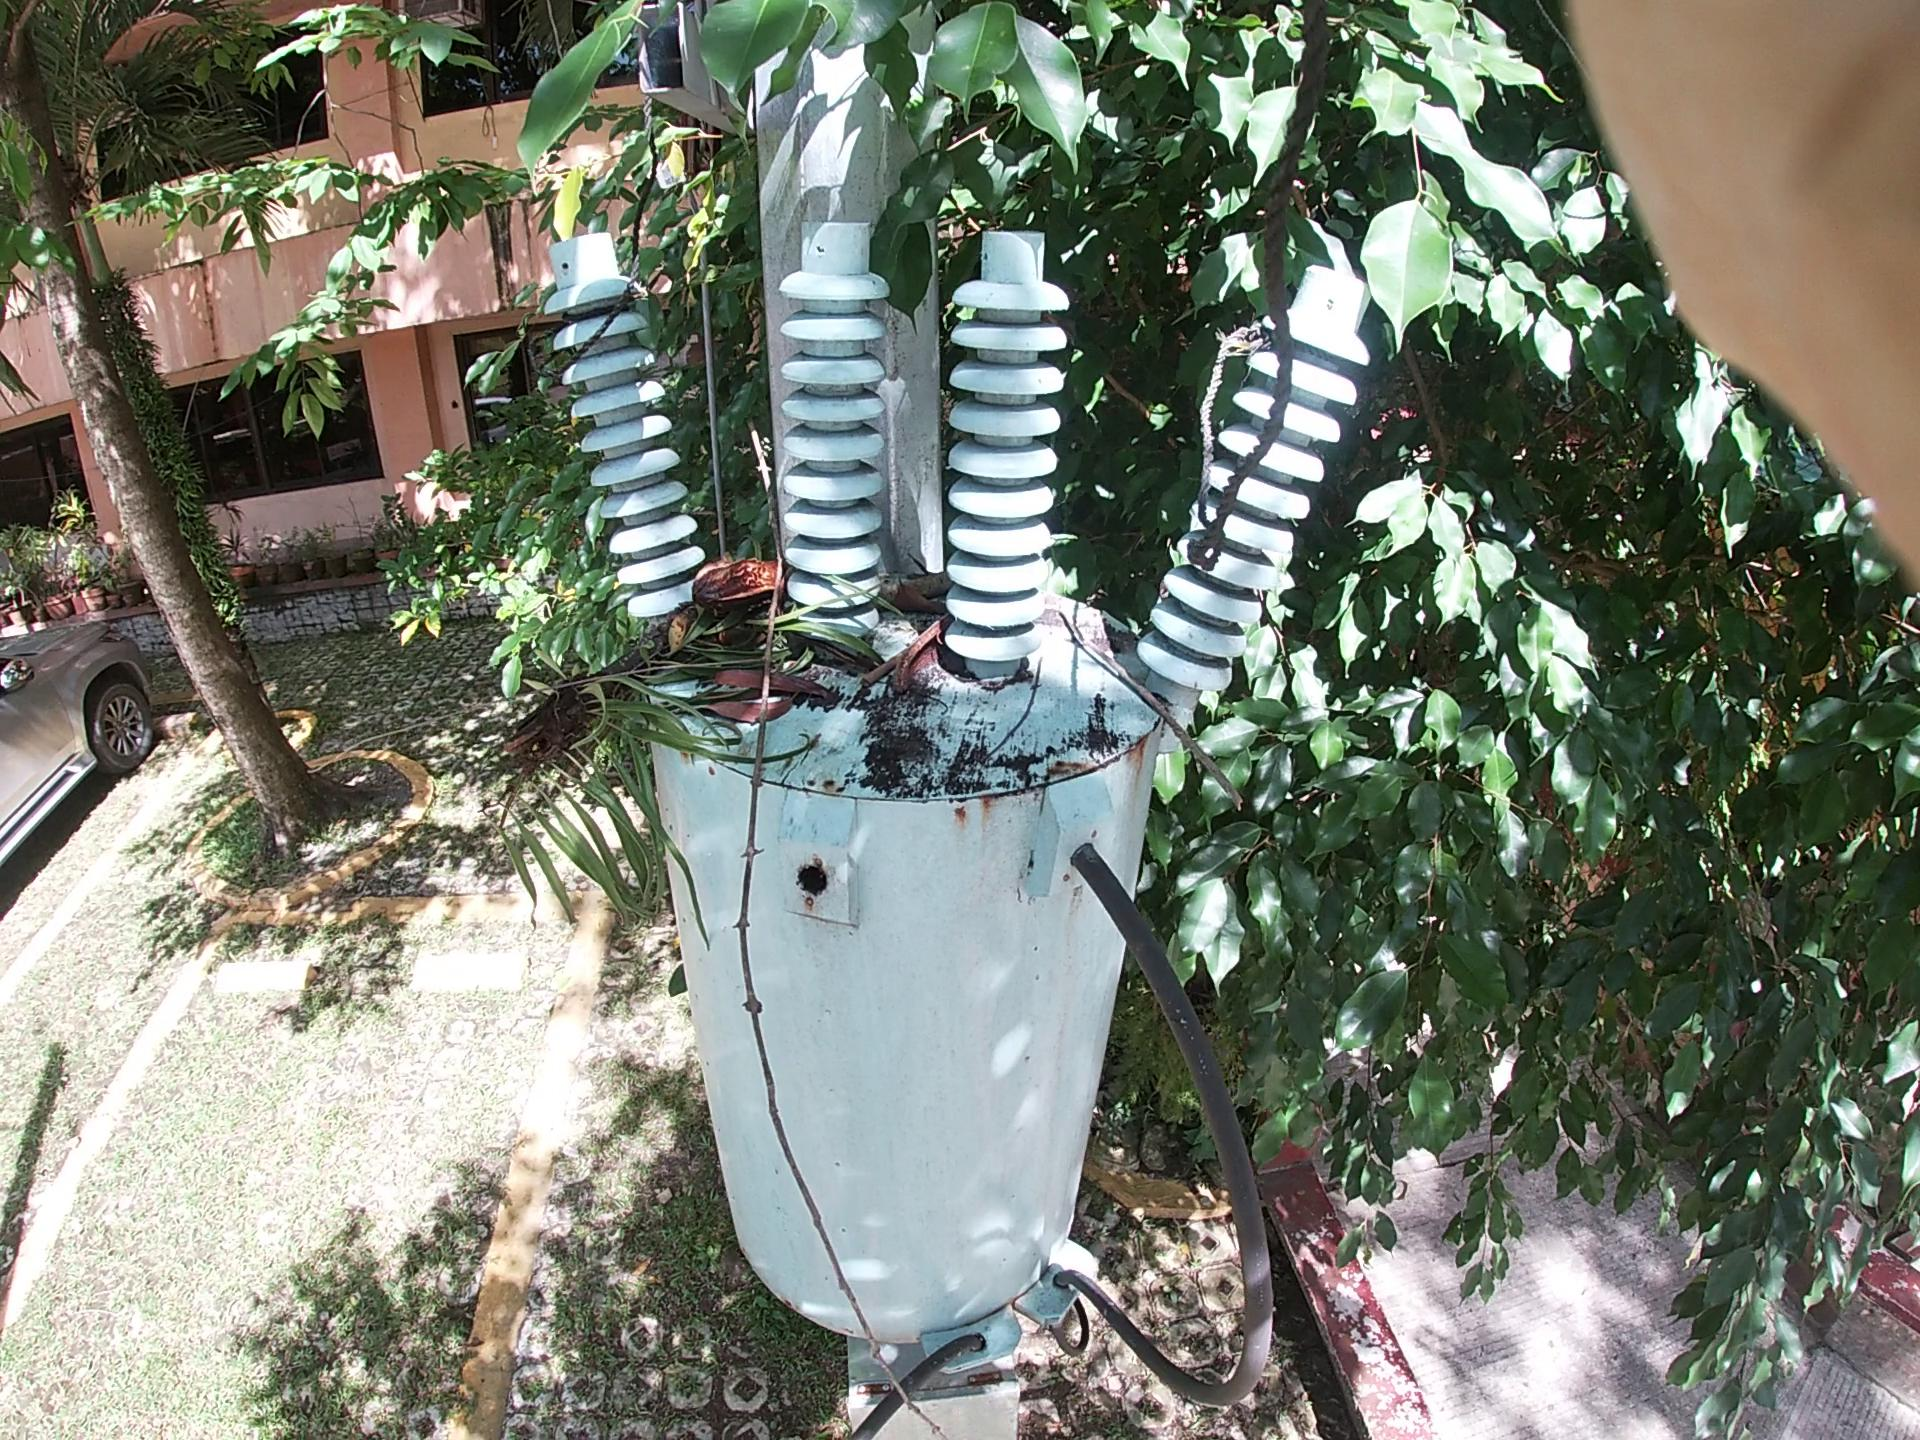branch with leaves: (470, 531, 765, 892)
leaf: (717, 655, 835, 782)
mahogany fruit: (661, 498, 963, 709)
tree branch: (730, 483, 853, 1289), (1034, 579, 1270, 815), (869, 510, 928, 743)
